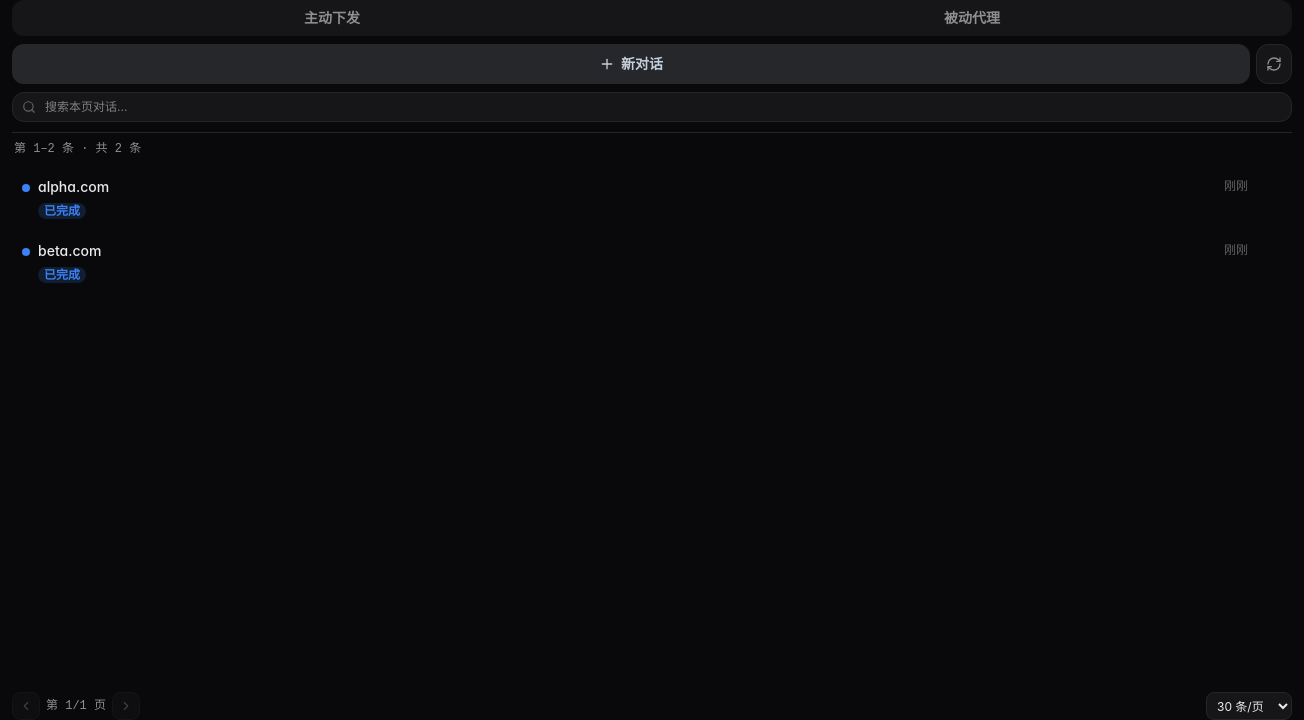
Test case: ConversationList › 搜索框按标题过滤（本页内）
Check: the text "alpha.com" is shown, box [38,177,109,197]
Type "beta" into the search field named "搜索对话". click: x=652, y=107
box: [12,92,1292,122]
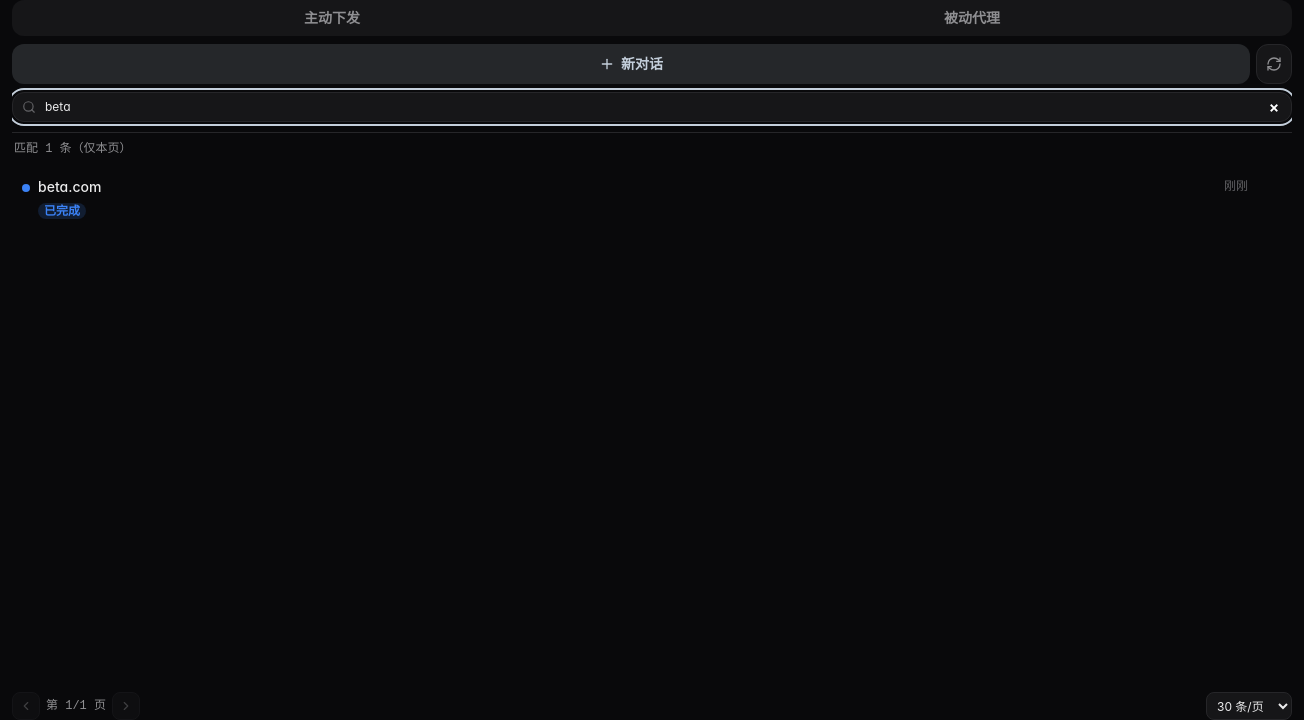
Check: the text "beta.com" is shown, box [38,177,101,197]
Check: the text "alpha.com" is gone
